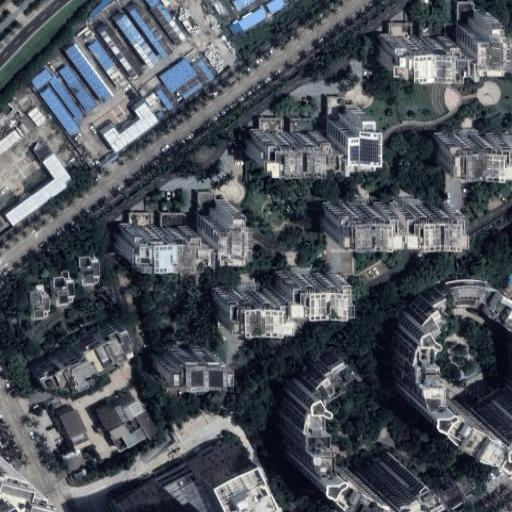building: (284, 345, 423, 512), (398, 276, 512, 455), (4, 153, 72, 224), (162, 468, 268, 512), (324, 201, 448, 234), (194, 448, 259, 510), (101, 101, 159, 152), (64, 44, 112, 102), (252, 127, 330, 161), (439, 133, 512, 166), (99, 25, 144, 78), (128, 3, 172, 57), (379, 34, 451, 66), (122, 224, 196, 254), (215, 285, 280, 319), (29, 344, 83, 384), (115, 13, 157, 64), (94, 397, 136, 446), (74, 323, 125, 362), (113, 481, 175, 512), (40, 88, 80, 136), (88, 39, 126, 87), (280, 269, 335, 301), (58, 64, 96, 110), (459, 11, 490, 65), (114, 389, 150, 435), (156, 346, 217, 373), (328, 103, 362, 149), (150, 1, 186, 44), (199, 201, 230, 249), (49, 77, 83, 119), (159, 59, 197, 95), (49, 401, 83, 441), (0, 455, 24, 508), (435, 482, 467, 512), (188, 57, 214, 86), (239, 7, 269, 32), (54, 270, 74, 306), (30, 284, 49, 317), (143, 92, 167, 118), (79, 257, 100, 286), (30, 66, 55, 90), (156, 84, 178, 109), (178, 78, 203, 99), (0, 129, 20, 153), (198, 193, 217, 216), (457, 2, 474, 27), (26, 107, 44, 125), (161, 212, 186, 224), (266, 0, 286, 15), (325, 95, 339, 116), (229, 21, 246, 38), (129, 212, 151, 224), (259, 118, 282, 129), (389, 24, 411, 35), (291, 119, 314, 128)
